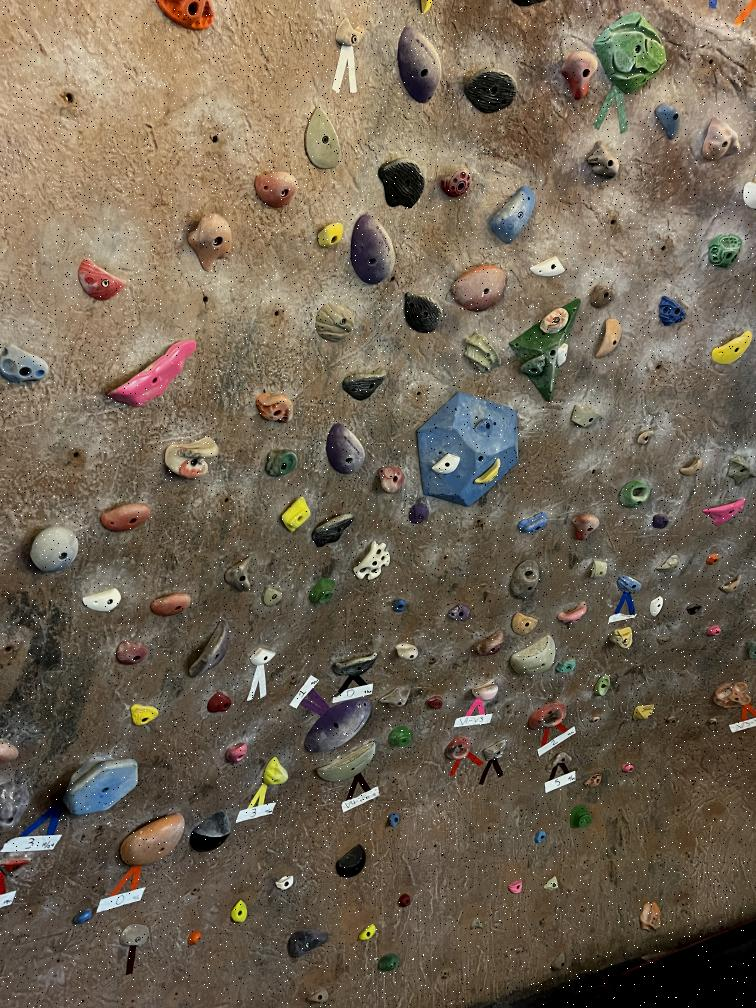Crimp: (302, 98, 345, 180), (507, 632, 562, 680), (698, 115, 742, 166), (458, 328, 504, 373), (106, 635, 151, 676), (652, 290, 691, 332), (76, 585, 124, 618), (220, 555, 257, 593), (331, 16, 371, 51), (528, 253, 572, 282), (539, 300, 571, 335), (247, 643, 281, 675), (515, 508, 549, 538), (429, 452, 462, 480), (508, 610, 539, 638), (517, 355, 546, 383), (481, 738, 511, 765), (470, 412, 498, 439), (542, 750, 574, 773), (390, 641, 423, 663), (554, 340, 575, 374), (614, 569, 641, 595), (676, 456, 707, 478), (633, 423, 659, 449), (653, 554, 681, 574)
Edges: (592, 10, 674, 96), (314, 740, 378, 786)
Foothold: (190, 806, 232, 854), (284, 928, 330, 961), (331, 843, 368, 878), (584, 277, 619, 313), (199, 687, 233, 720), (639, 899, 664, 936), (115, 923, 149, 950), (256, 584, 287, 613), (403, 500, 434, 529), (225, 896, 250, 930), (604, 626, 638, 650), (565, 805, 595, 832), (374, 952, 407, 976), (352, 918, 379, 947), (648, 510, 676, 537), (223, 740, 250, 767), (629, 699, 656, 726), (304, 982, 332, 1008), (552, 653, 581, 676), (448, 599, 472, 626), (384, 812, 409, 835), (72, 906, 96, 929), (392, 893, 415, 916), (506, 876, 529, 898), (550, 948, 568, 975), (702, 550, 724, 572), (582, 771, 604, 793), (619, 756, 636, 782), (544, 872, 562, 896), (185, 931, 208, 949), (650, 594, 664, 621), (425, 693, 445, 711), (275, 873, 296, 890), (532, 828, 548, 848), (467, 916, 488, 930), (698, 718, 719, 731), (704, 625, 724, 638), (590, 711, 606, 727), (687, 603, 703, 617), (667, 714, 679, 726)
Hand-holds: (724, 452, 756, 492)
Jug: (52, 746, 148, 826), (105, 335, 201, 411), (344, 210, 398, 291), (300, 696, 374, 755), (395, 23, 445, 108), (119, 808, 187, 870), (450, 253, 506, 312), (187, 208, 237, 274), (28, 520, 83, 578), (462, 62, 518, 117), (373, 155, 426, 211), (0, 338, 53, 392), (187, 618, 230, 678), (323, 422, 369, 478), (72, 257, 130, 301), (255, 385, 305, 434), (97, 496, 153, 538), (556, 51, 599, 105), (399, 288, 446, 336), (310, 505, 355, 547), (252, 170, 301, 208), (338, 368, 387, 405), (121, 695, 166, 734), (354, 539, 392, 584), (708, 332, 754, 368), (700, 495, 747, 529), (466, 626, 508, 662), (592, 316, 625, 360), (440, 160, 475, 200), (330, 651, 380, 678), (260, 754, 292, 792), (311, 220, 345, 255), (568, 511, 602, 545), (555, 598, 590, 630), (149, 593, 193, 617), (377, 464, 409, 496), (712, 574, 748, 598), (468, 679, 500, 705)
Pinch: (157, 431, 227, 489), (484, 182, 537, 247), (700, 676, 754, 712), (260, 444, 302, 483), (651, 101, 687, 143), (279, 490, 313, 534), (566, 399, 603, 436), (306, 576, 340, 610), (376, 684, 412, 712), (476, 455, 503, 489), (585, 552, 610, 588), (387, 728, 417, 749), (593, 672, 615, 699)
Pocket: (502, 554, 541, 600), (615, 475, 658, 509), (526, 701, 566, 733), (440, 736, 473, 765), (386, 594, 413, 617)
Sloper: (304, 301, 361, 349), (699, 231, 745, 272), (586, 138, 620, 180)
